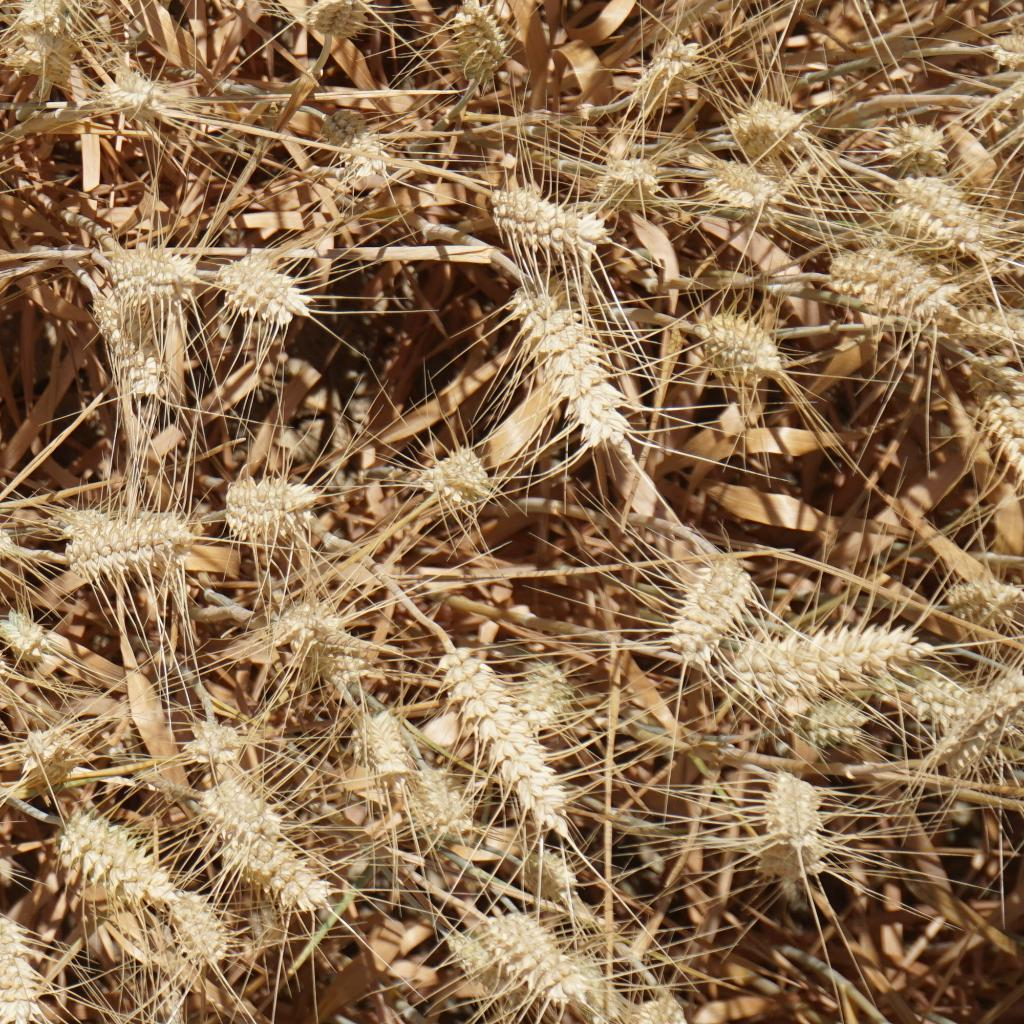0-0: (433, 632, 569, 828), (516, 291, 626, 446), (635, 537, 748, 655), (480, 909, 598, 1019), (734, 612, 913, 683), (484, 167, 610, 267), (821, 240, 953, 326), (69, 494, 193, 572), (943, 671, 1024, 781), (342, 698, 425, 805), (325, 120, 417, 202), (210, 251, 307, 328), (232, 840, 334, 913), (43, 813, 147, 884), (505, 647, 581, 740), (106, 62, 193, 143), (212, 470, 318, 535), (628, 6, 710, 90), (281, 590, 352, 687), (898, 165, 978, 249), (720, 86, 803, 161), (0, 903, 51, 1021), (695, 301, 775, 376), (108, 313, 177, 399), (693, 141, 768, 220), (797, 683, 878, 756), (449, 0, 519, 84), (947, 555, 1024, 630), (754, 765, 823, 844), (104, 240, 195, 299), (978, 376, 1024, 486), (940, 299, 1024, 357), (0, 589, 68, 659), (19, 716, 88, 783), (592, 137, 659, 206), (907, 677, 996, 728), (200, 777, 281, 833), (876, 112, 947, 171), (431, 441, 492, 509), (161, 888, 220, 954), (523, 842, 590, 900), (186, 707, 249, 765), (309, 0, 368, 33), (4, 0, 82, 19)
